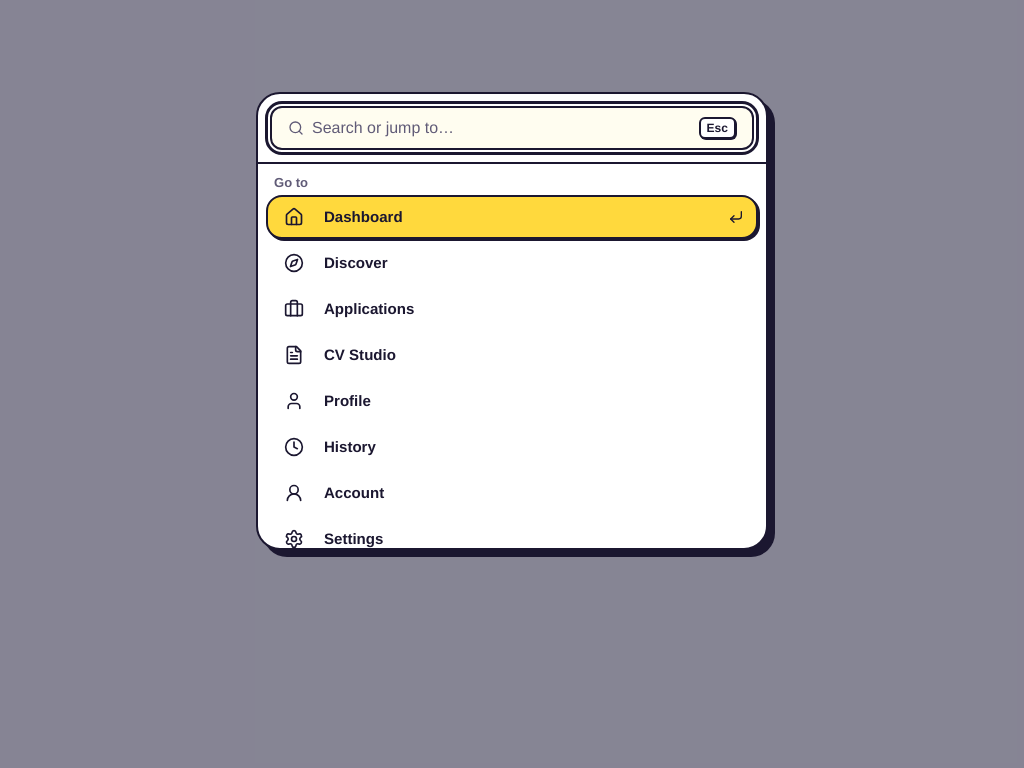
Test case: CommandPalette › sets the sidebar shortcut apart from the row text
In the dropdown labelled "Search": (501, 128) top-left (312, 108), bottom-right (691, 148), type "collapse"
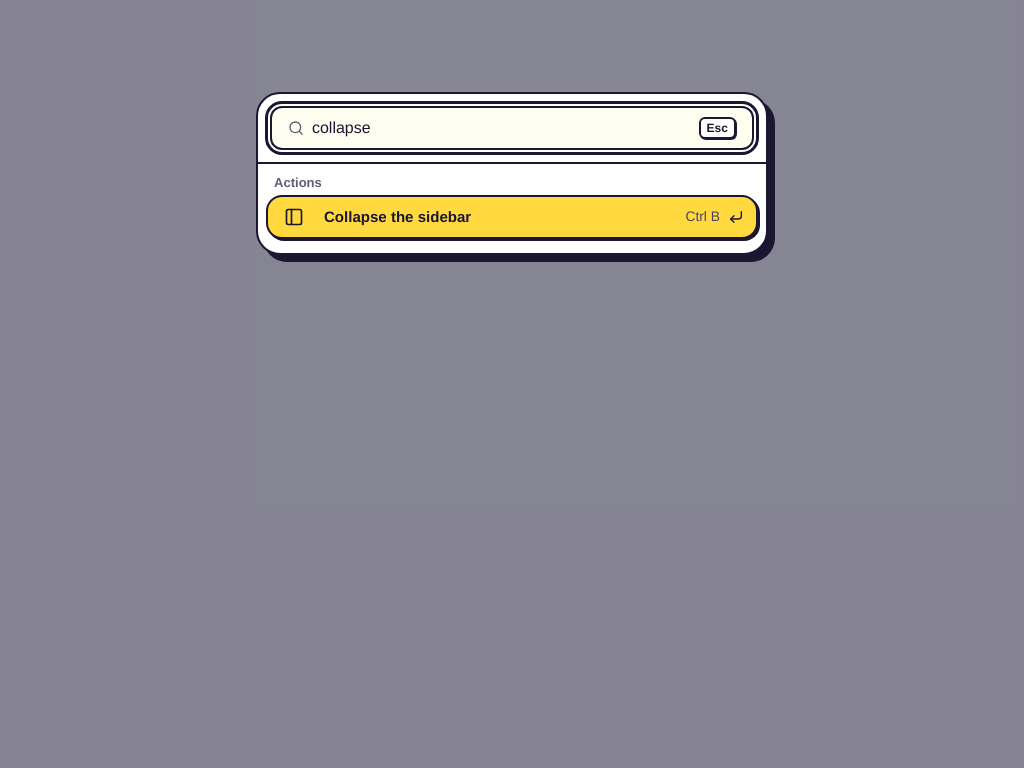
Expected: the text with class "app-palette__shortcut" shows "B", top-left (685, 207), bottom-right (720, 227)
